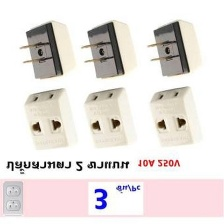three_eye_plug: (78, 18, 139, 84), (144, 83, 203, 151), (15, 20, 78, 82), (139, 17, 204, 77), (80, 87, 138, 151), (21, 88, 79, 152)
